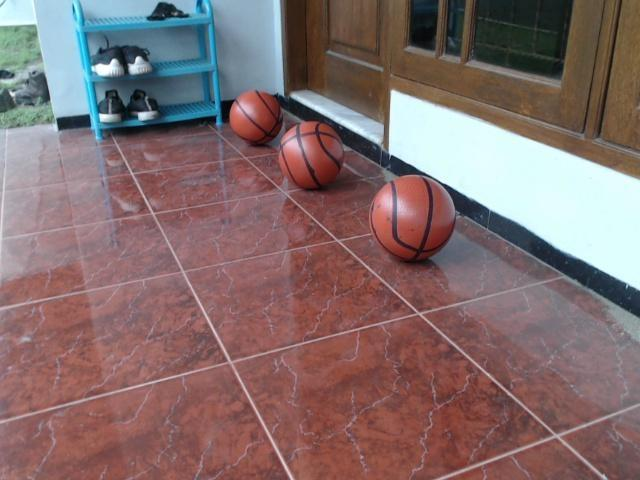Sports-Ball: (367, 169, 466, 261), (270, 108, 345, 194), (224, 79, 290, 149)
